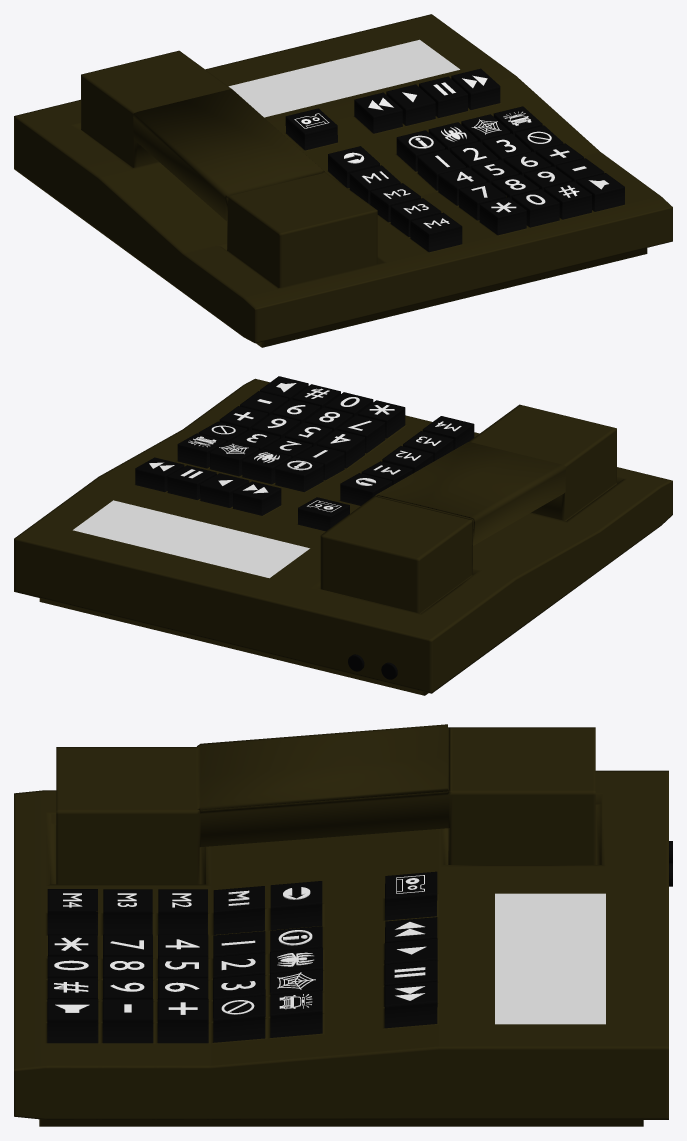
The model's file is phone.fbx.
3 views of the same model, one above another, from view 1: azimuth 30°, elevation 25°; view 2: azimuth 150°, elevation 25°; view 3: azimuth 270°, elevation 25° (orthographic). The views are drawn at different scales.
Visible parts, largest first — view 1: Phone, telephone; view 2: Phone, telephone; view 3: Phone, telephone.
Part boxes in pixels (x1,y1,x2,y2): Phone: (14, 14, 672, 347); telephone: (81, 50, 377, 288); Phone: (14, 376, 672, 695); telephone: (320, 404, 616, 613); Phone: (14, 770, 672, 1126); telephone: (56, 724, 595, 884).
Bounding box in the file's own units: 200 × 54.76 × 201.
